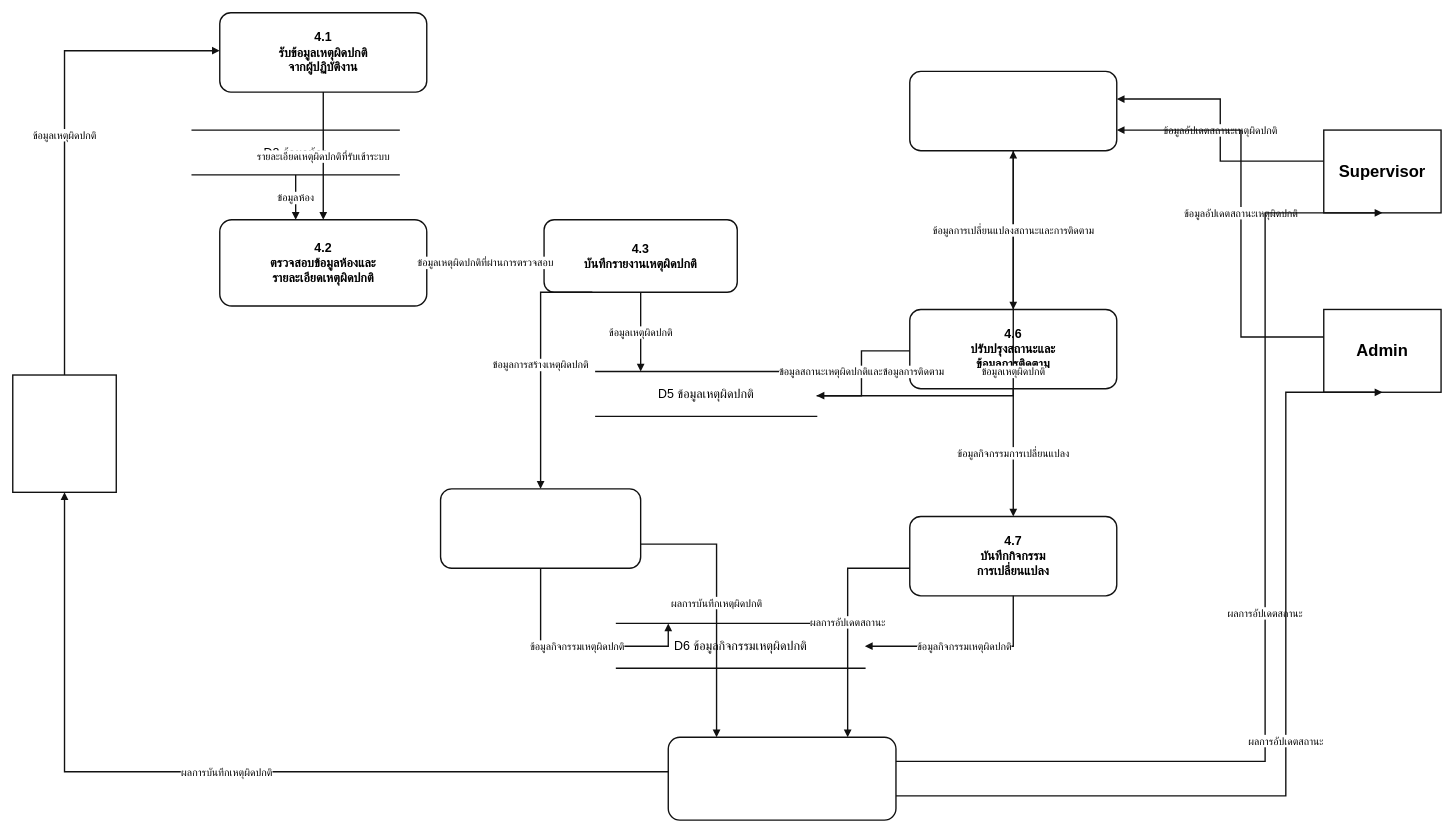
Some shapes in this 1453 by 832 pixel diagram are drawn without their labels. The shapes that lost their labels are listed below. From the top down, each one's centre as x and y in pixels, then its label:
At (1013,110): "4.5 รับข้อมูลอัปเดตสถานะ จากผู้ดูแล".
At (64,433): "Staff".
At (540,528): "4.4 บันทึกกิจกรรม การแจ้งเหตุผิดปกติ".
At (781,778): "4.8 ส่งผลการบันทึกและ ผลการอัปเดตกลับผู้เกี่ยวข้อง".
